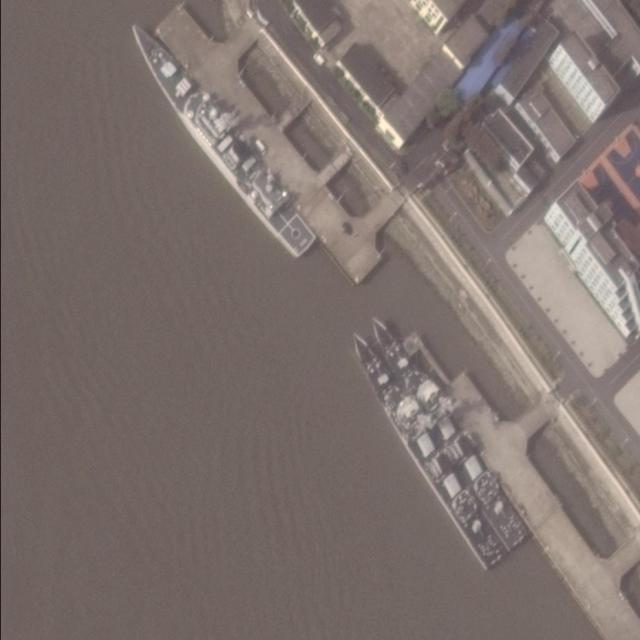Auxiliary Ships: (116, 17, 317, 258)
Frigate: (336, 330, 513, 570), (361, 311, 533, 546)
